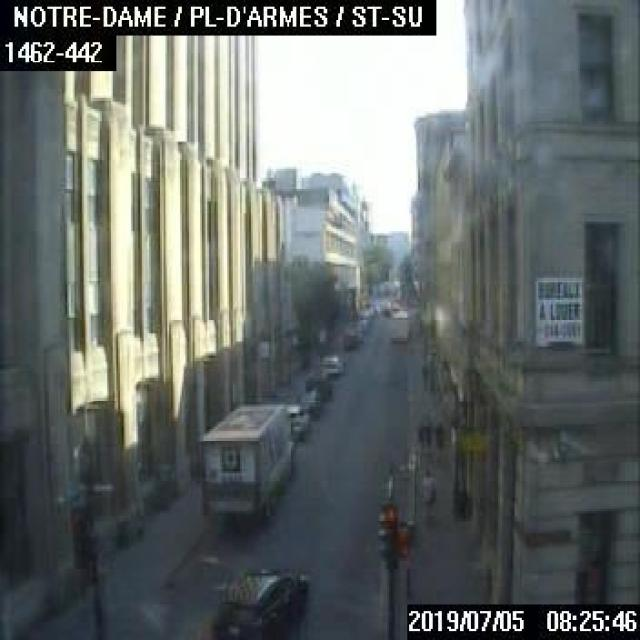pedestrian: (420, 471, 435, 527), (416, 396, 431, 440)
vehicle: (196, 400, 296, 533), (213, 562, 310, 638), (279, 399, 310, 444), (303, 369, 331, 400), (296, 388, 320, 416), (318, 353, 342, 372), (342, 326, 361, 344), (389, 306, 406, 318)
